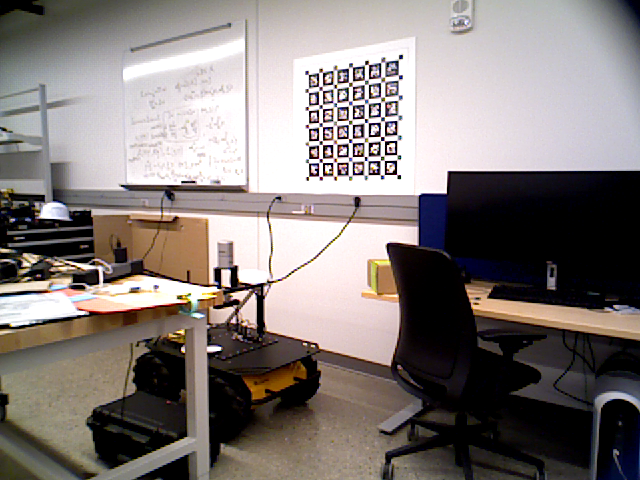painting4: (291, 35, 412, 191)
